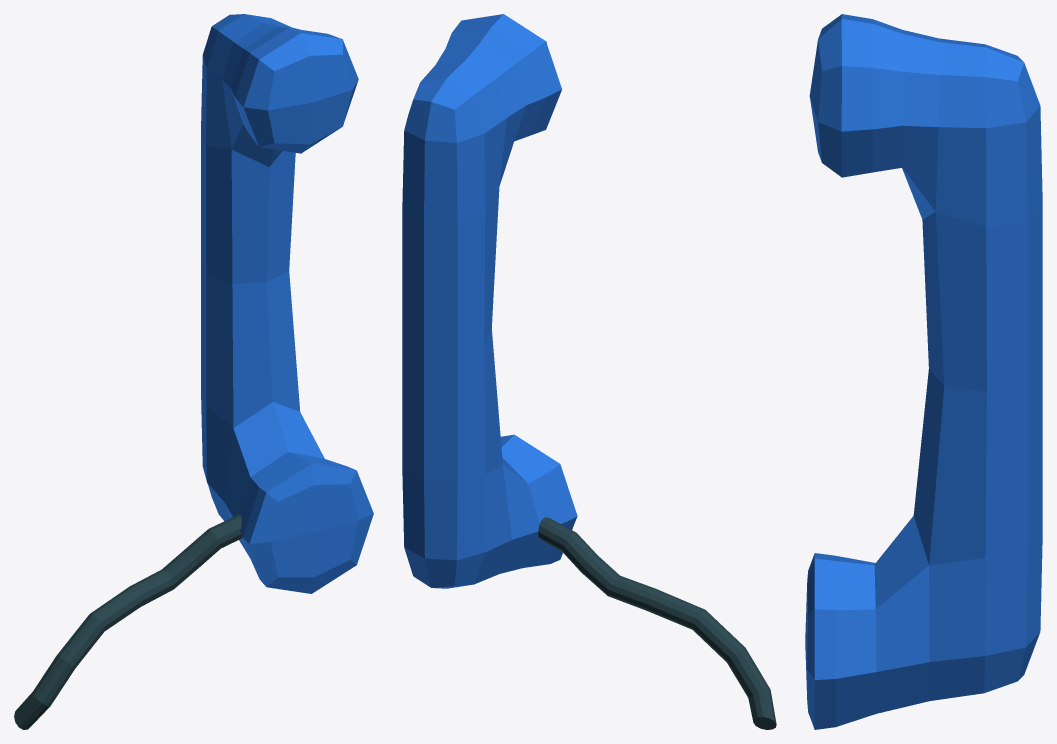
The model's file is Telephone.gltf.
The picture shows the model from 3 angles, left to right: view 1: azimuth 30°, elevation 25°; view 2: azimuth 150°, elevation 25°; view 3: azimuth 270°, elevation 25°; orthographic projection. The views are drawn at different scales.
Visible parts, largest first — view 1: Phone_Mesh, Wire_Mesh; view 2: Phone_Mesh, Wire_Mesh; view 3: Phone_Mesh.
Part boxes in pixels (x1,y1,x2,y2): Phone_Mesh: (201,14,373,593); Wire_Mesh: (14,514,242,729); Phone_Mesh: (402,14,577,588); Wire_Mesh: (538,517,776,729); Phone_Mesh: (805,14,1042,729).
Bounding box in the file's own units: 0.5819 × 1.04 × 0.2762.
